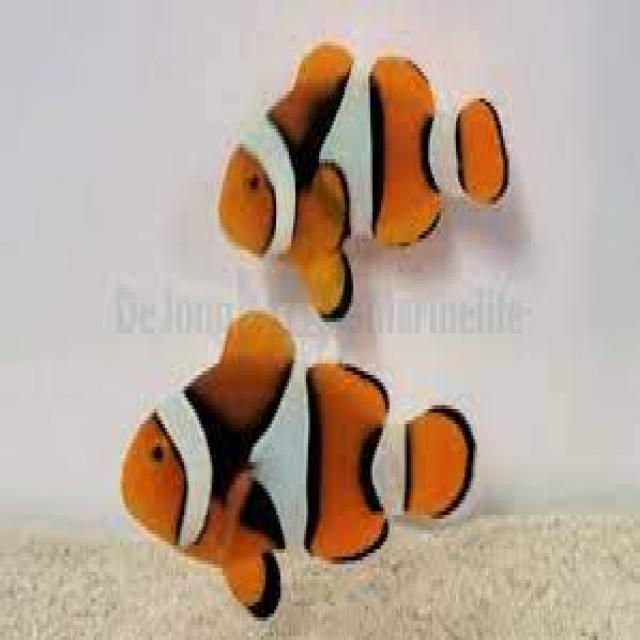ClownFish: (121, 313, 478, 627), (214, 42, 513, 317)
